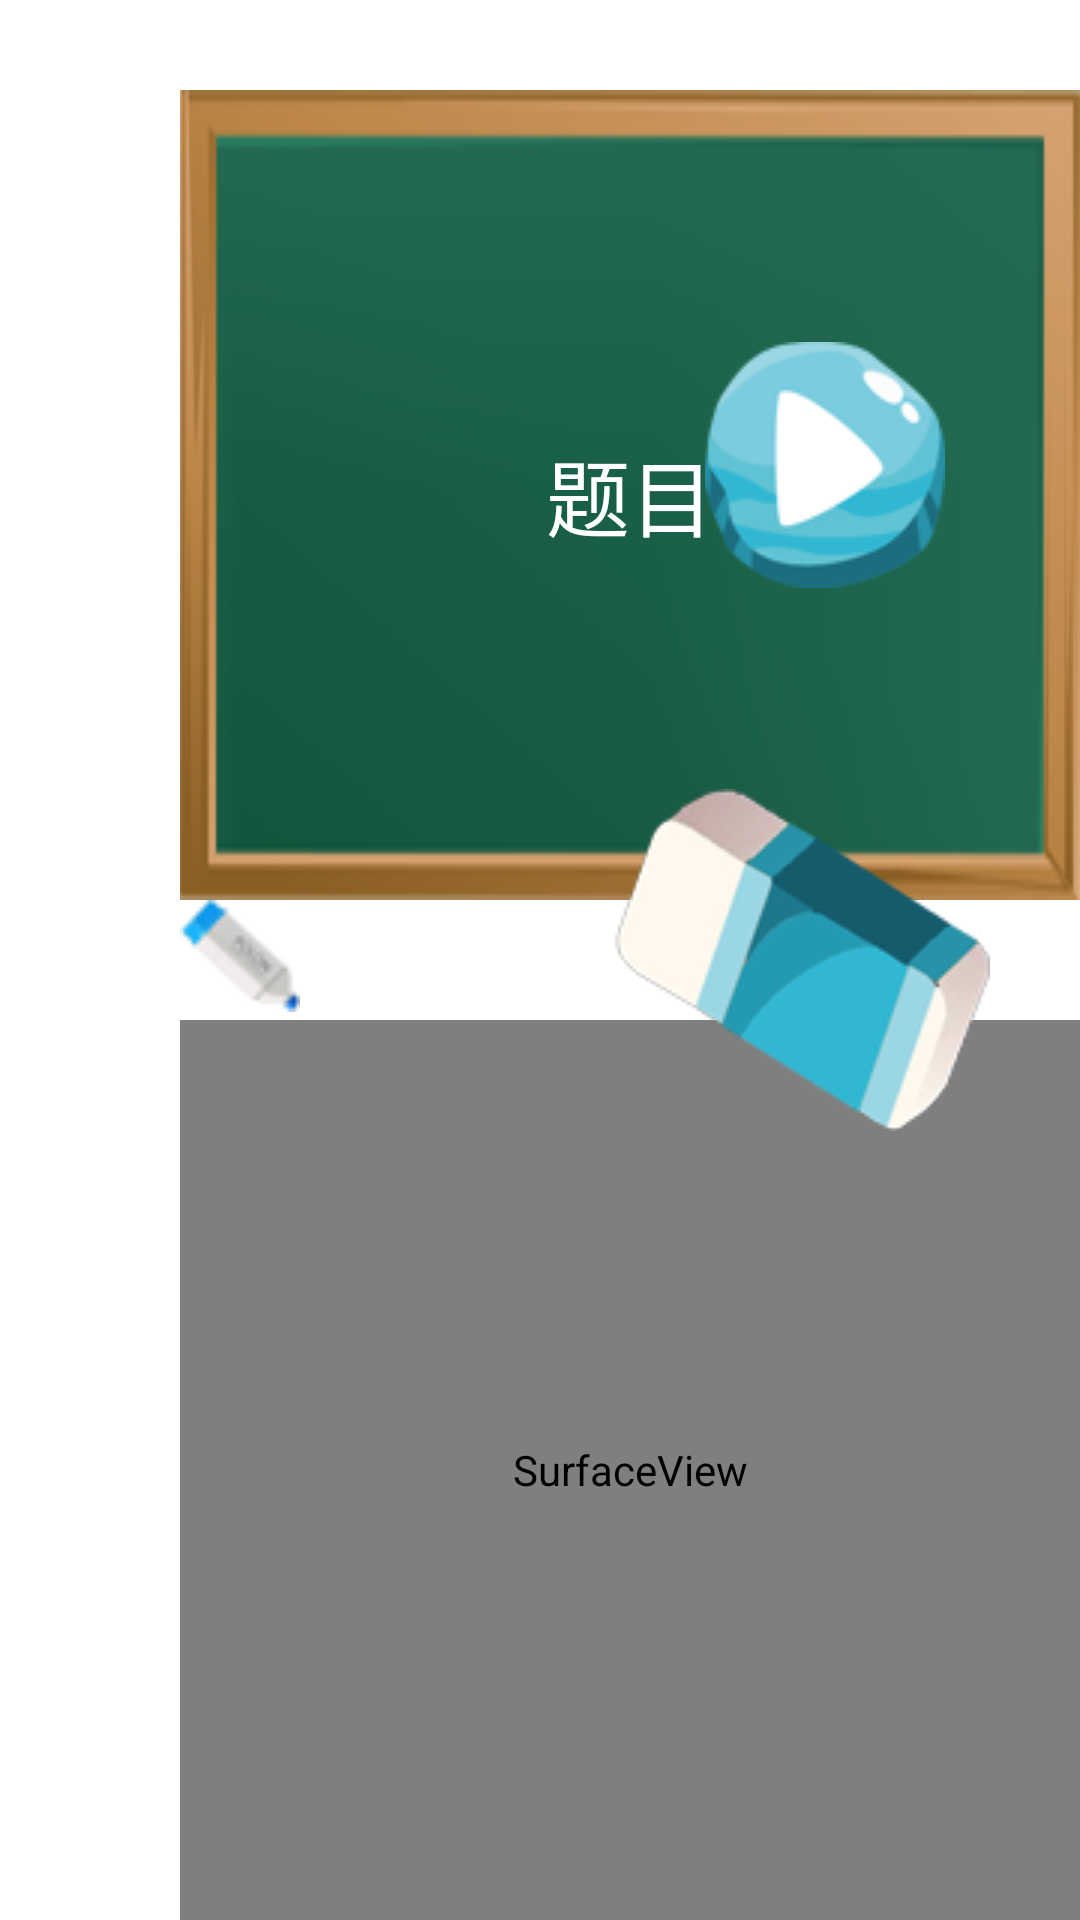

Named icons in this screenshot (1080×1920) and their centers, (x,y):
pen: (240,956)
